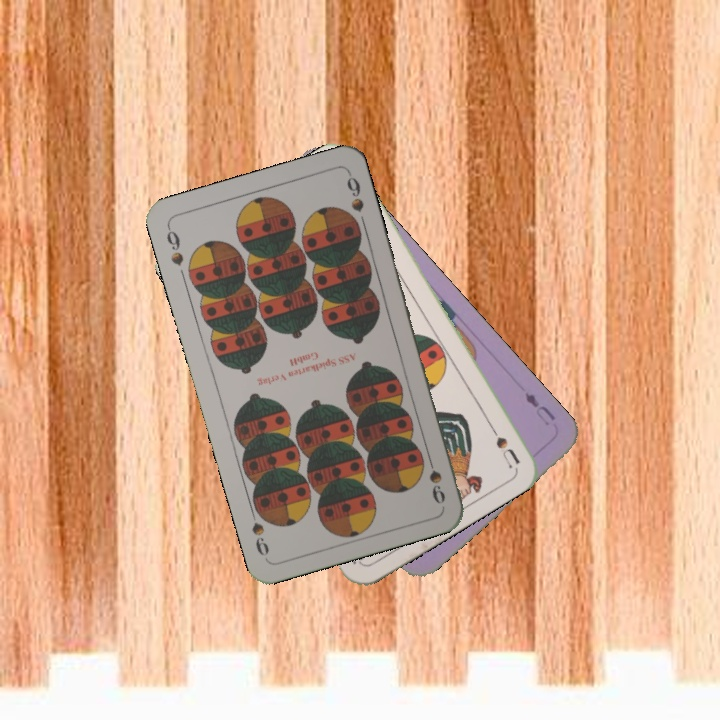EU: (520, 387, 559, 429)
S9: (422, 448, 448, 507), (162, 222, 187, 269)
SU: (481, 414, 522, 470)
